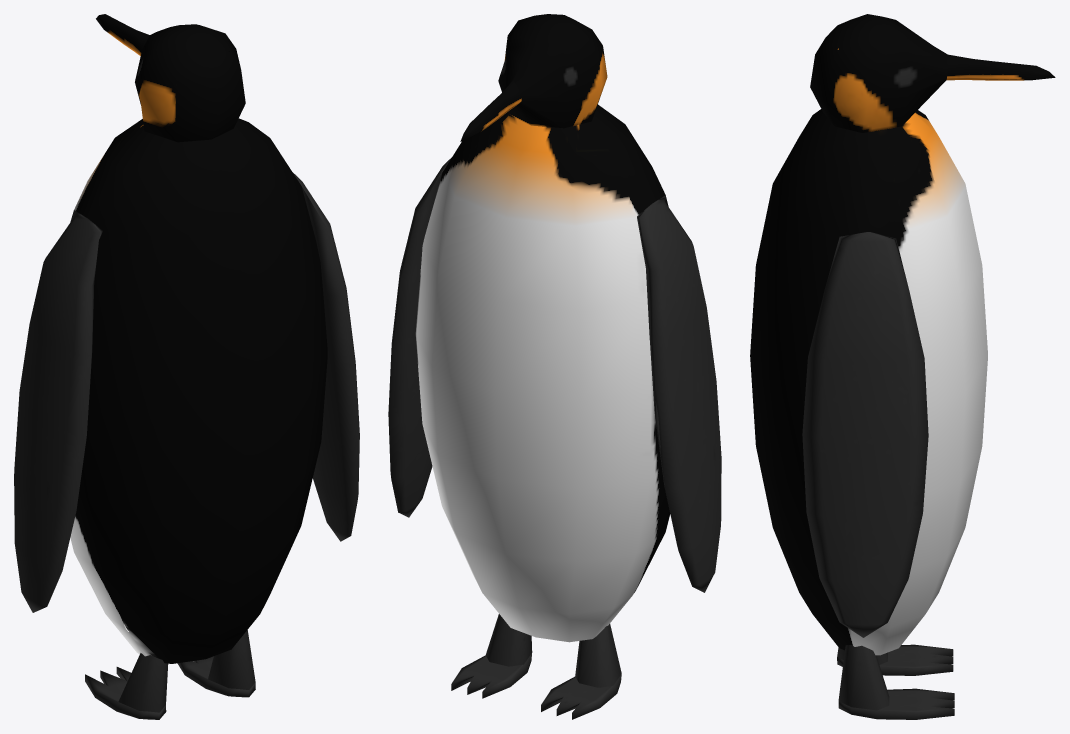
The model's file is Penguin.fbx.
3 views of the same model, side by side, from view 1: azimuth 30°, elevation 25°; view 2: azimuth 150°, elevation 25°; view 3: azimuth 270°, elevation 25° (orthographic).
Visible parts, largest first — view 1: pSphere8; view 2: pSphere8; view 3: pSphere8.
Part boxes in pixels (left/top/right/bottom): pSphere8: left=14, top=14, right=359, bottom=719; pSphere8: left=388, top=14, right=721, bottom=719; pSphere8: left=750, top=14, right=1055, bottom=719.
Bounding box in the file's own units: 1.15 × 2.34 × 0.9718.
1 material, 1 textured.
